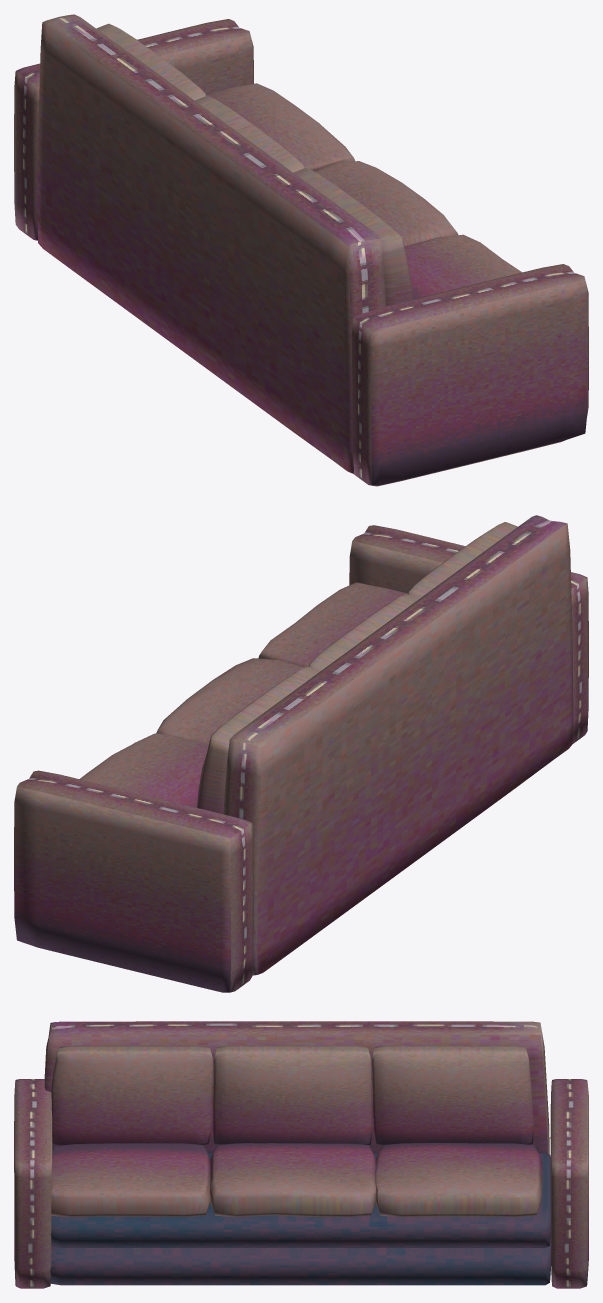
Rendered from Couch.fbx.
3 renders of one model, top to bottom at view 1: azimuth 30°, elevation 25°; view 2: azimuth 150°, elevation 25°; view 3: azimuth 270°, elevation 25°, orthographic. The views are drawn at different scales.
Parts seen in each view (by area): view 1: Cube.041; view 2: Cube.041; view 3: Cube.041.
Boxes of the visible parts, <box> form: Cube.041: <box>14,14,588,486</box>; Cube.041: <box>14,515,588,992</box>; Cube.041: <box>14,1021,588,1288</box>.
Bounding box in the file's own units: 226 × 226 × 629.
